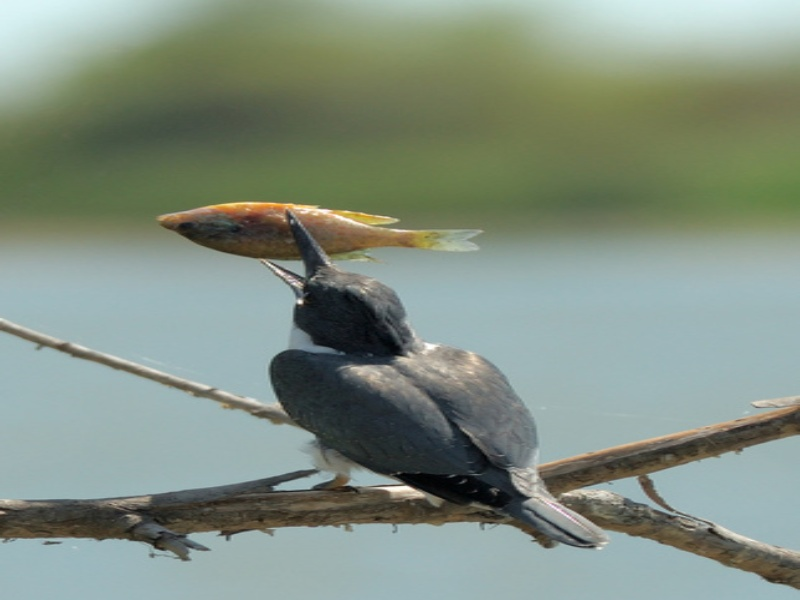kingfisher: (256, 208, 609, 562)
